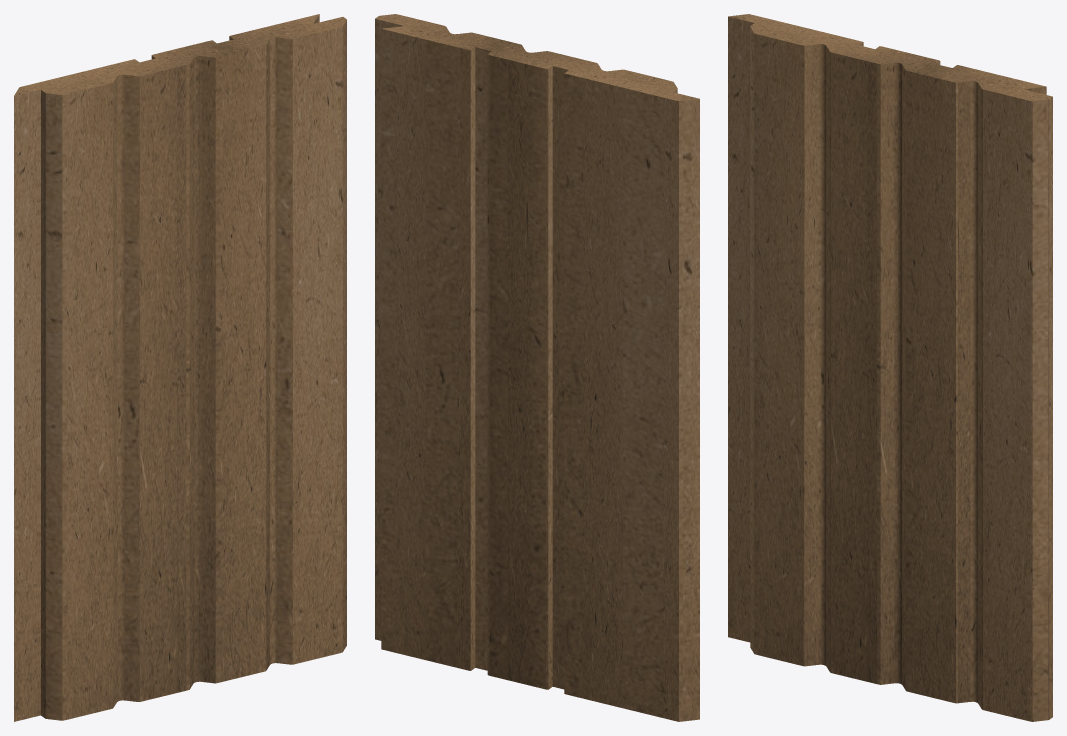
The model's file is diamond.glb.
3 renders of one model, left to right at view 1: azimuth 30°, elevation 25°; view 2: azimuth 150°, elevation 25°; view 3: azimuth 330°, elevation 25°, orthographic.
Visible parts, largest first — view 1: root; view 2: root; view 3: root.
Part boxes in pixels (bbox=[...]): root: bbox=[14, 14, 346, 721]; root: bbox=[375, 14, 699, 721]; root: bbox=[728, 14, 1052, 721].
Bounding box in the file's own units: 0.1199 × 0.2183 × 0.012.
2 materials, 2 textured.
